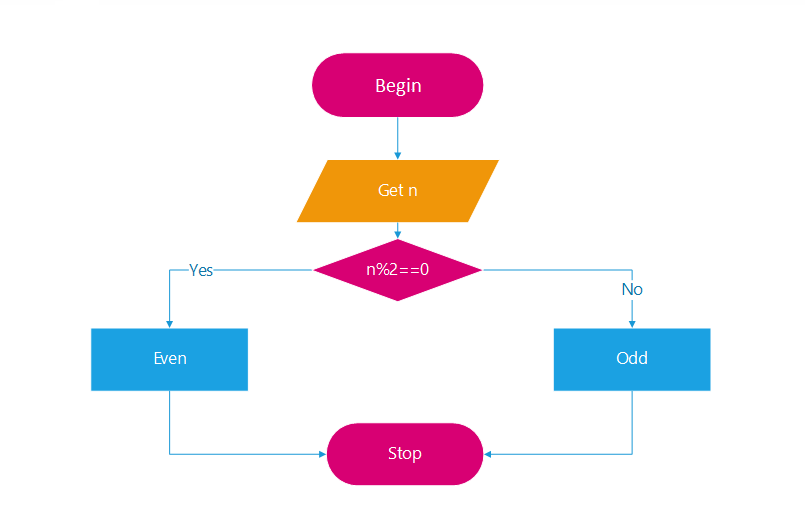arrow: (165, 389, 327, 460), (482, 387, 635, 458), (478, 266, 636, 332), (163, 266, 316, 330), (392, 116, 402, 160), (392, 219, 402, 239)
data: (295, 159, 501, 224)
decision: (312, 236, 483, 303)
process: (88, 325, 250, 393), (551, 327, 713, 392)
terminator: (310, 51, 485, 118), (324, 421, 486, 488)
text: (363, 258, 429, 276), (374, 76, 424, 98), (387, 444, 423, 467), (377, 180, 420, 198), (151, 349, 189, 366), (614, 348, 649, 366), (619, 280, 647, 296), (186, 261, 213, 277)
